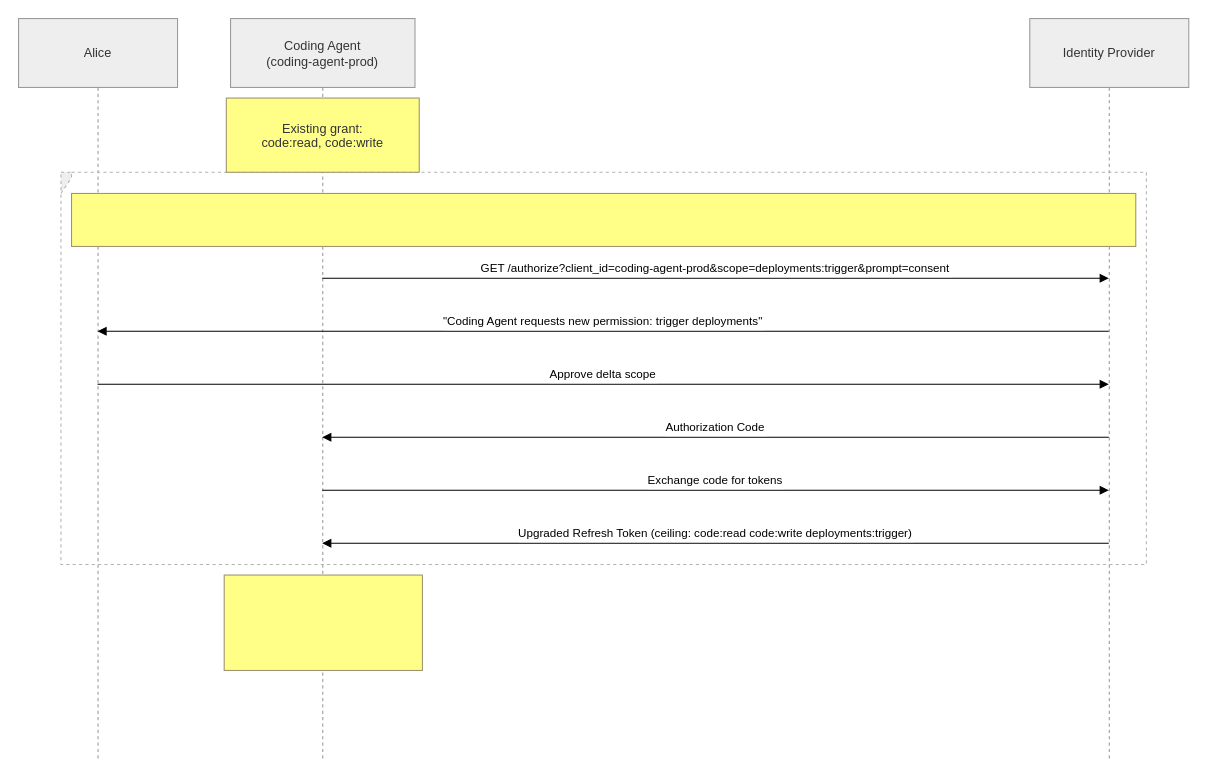
Image size: 1207x779. Some labels were removed from this diagram. Here are the shapes that lost their labels. From the top down, the box of each, then its label:
(70, 192, 1136, 246): Incremental Consent — Delta Scope Request
(223, 574, 422, 670): Updated grant: code:read, code:write, deployments:trigger
